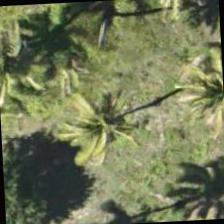Kelapa_Sawit: (166, 40, 223, 135), (0, 20, 50, 113)
